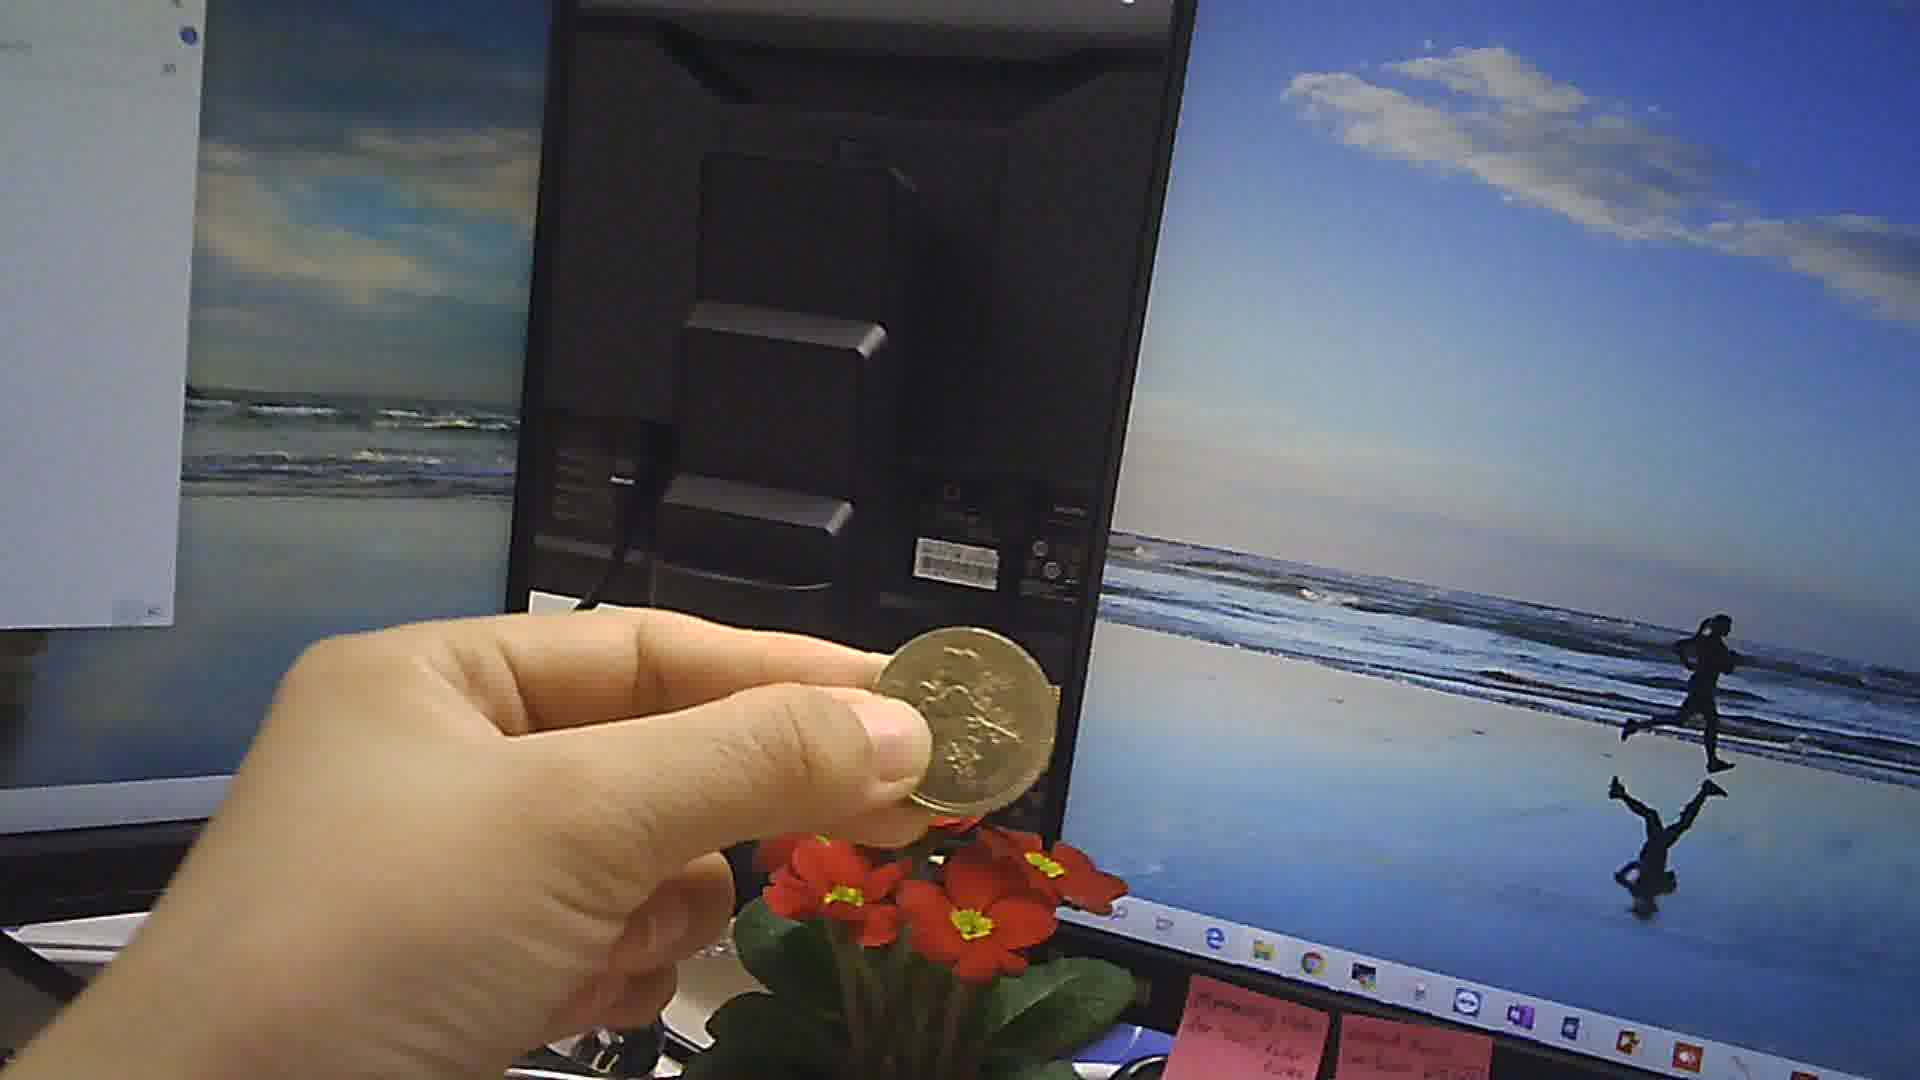500 Yen: (872, 616, 1063, 818)
